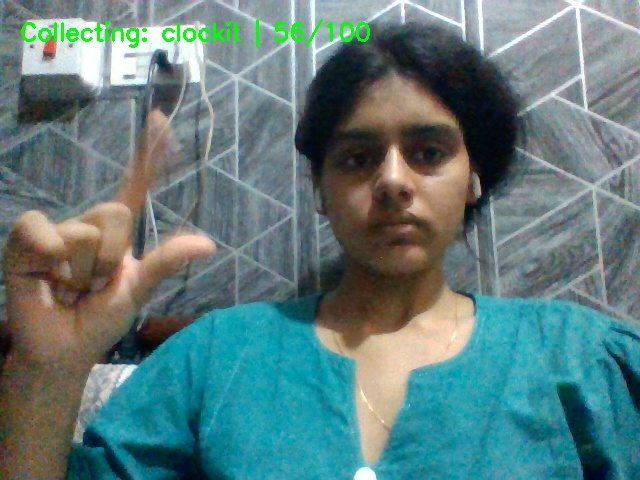clockit: (6, 108, 242, 368)
